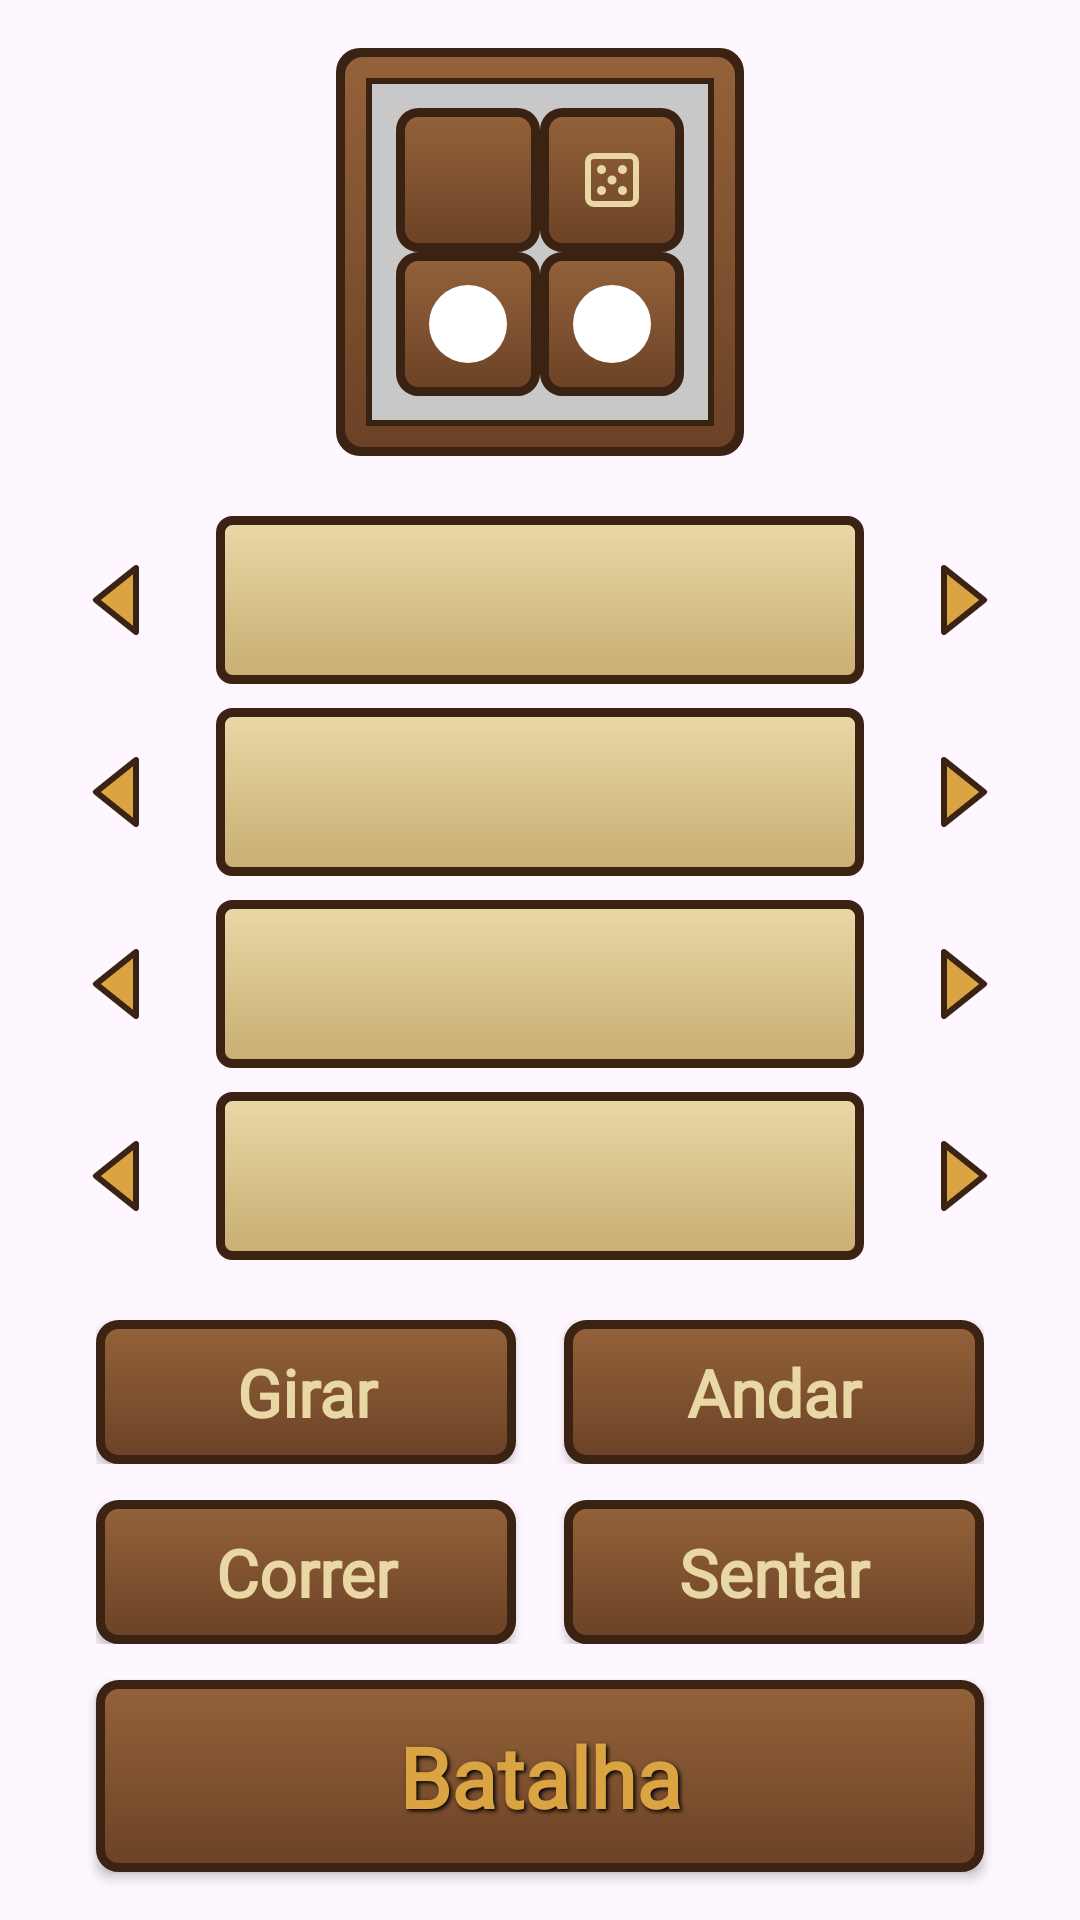

Where to tap for icons on this 1080 x 1920 app screen, as [x,y]:
Herói aleatório: [612,180]
Peça anterior: [115,600], [115,792], [115,984], [115,1176]
Próxima peça: [964,600], [964,792], [964,984], [964,1176]
